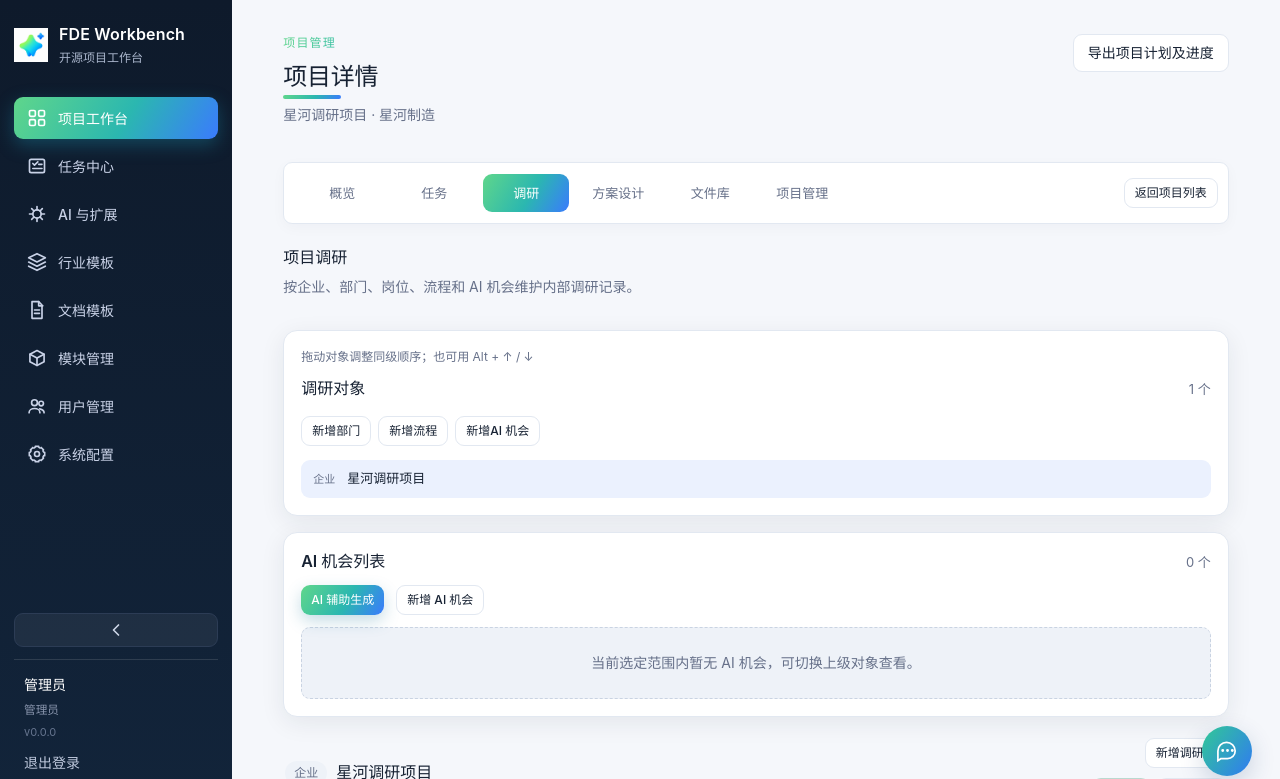
project research workspace › creates a department and opens its form card to save answers and return to the list
Click the button "新增部门": (336, 431) [301,416,371,446]
(page scrolled)
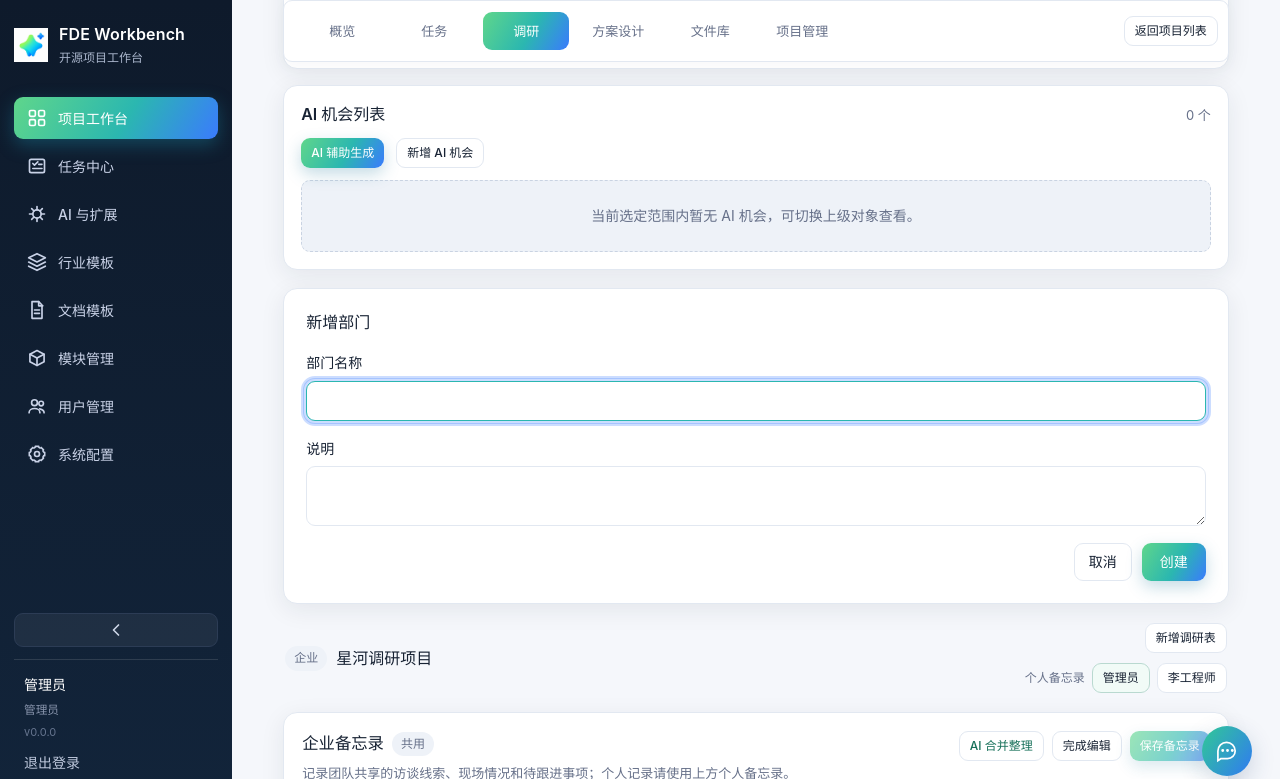
In the field labelled "部门名称": (756, 401) [306,381,1206,421], type "销售部"
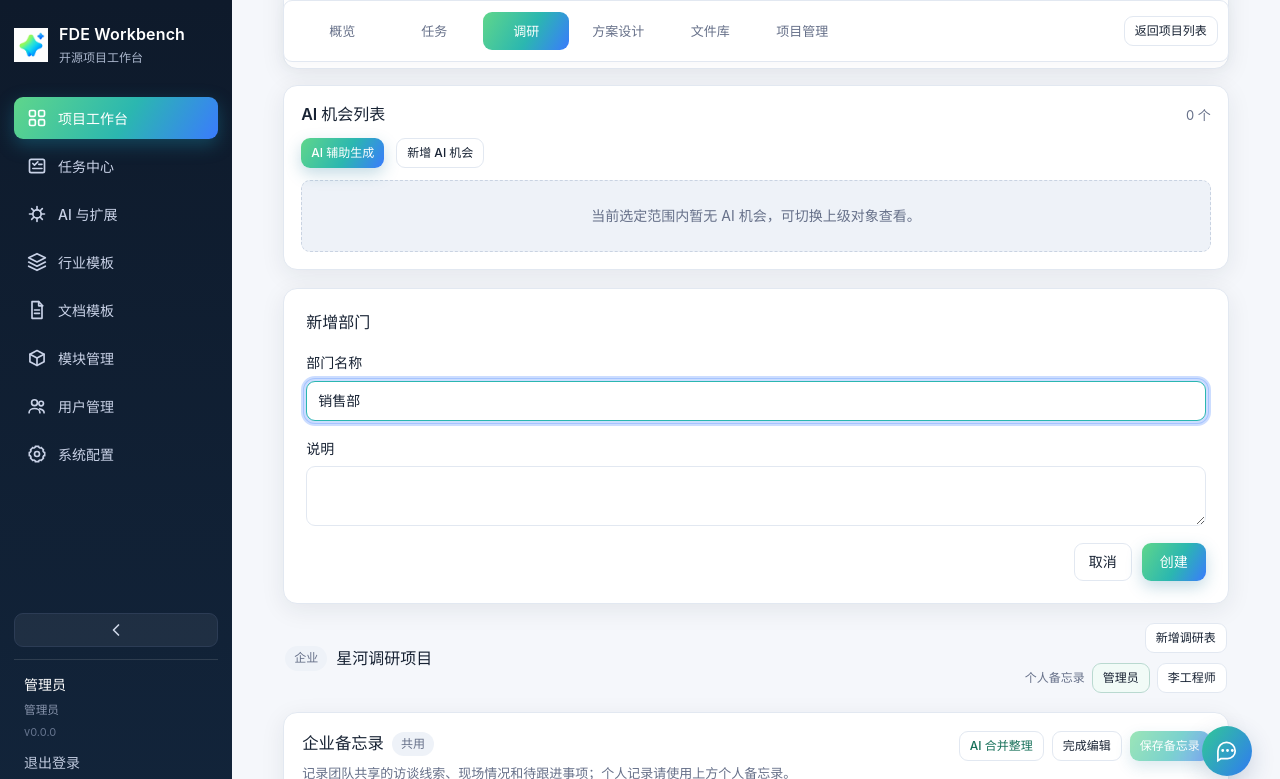
Click the button "创建": (1174, 562) [1142,543,1206,581]
(page scrolled)
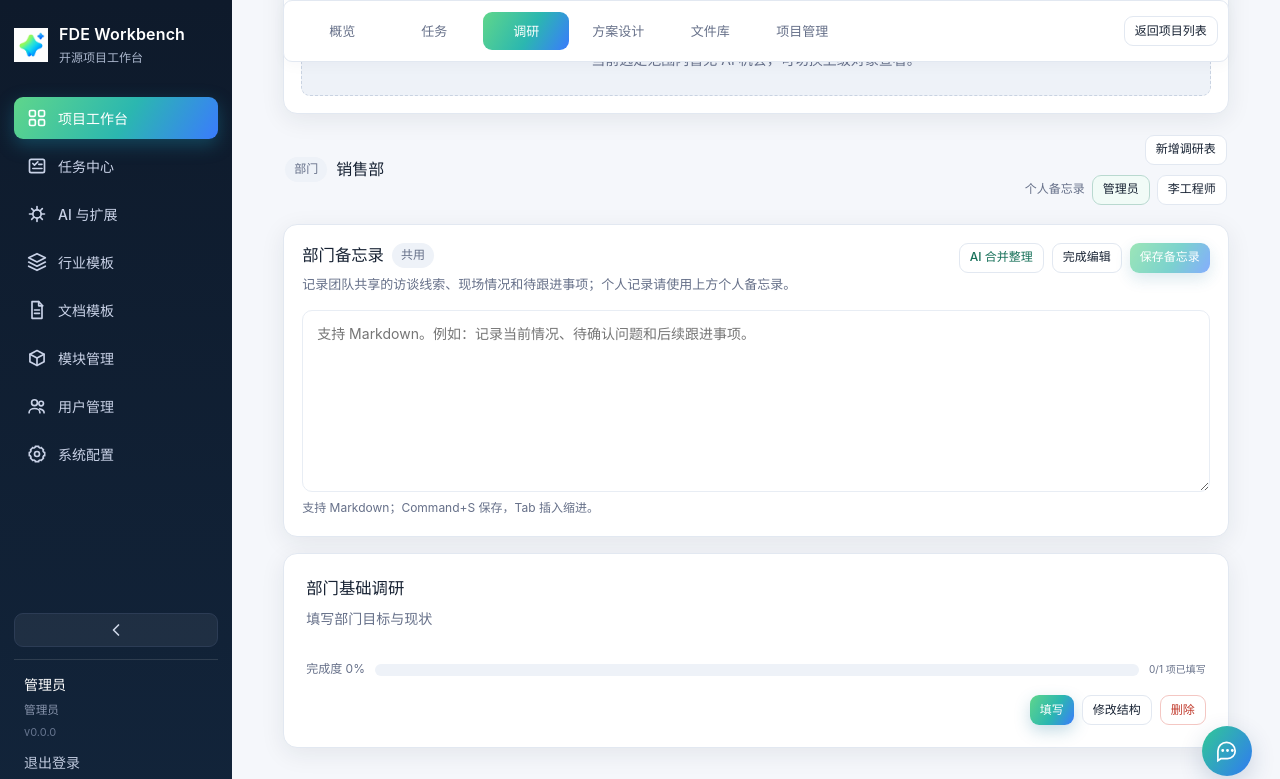
Expected: the field labelled "核心目标" is not shown
Click the button "填写": (1052, 710) [1030,695,1074,725]
(page scrolled)
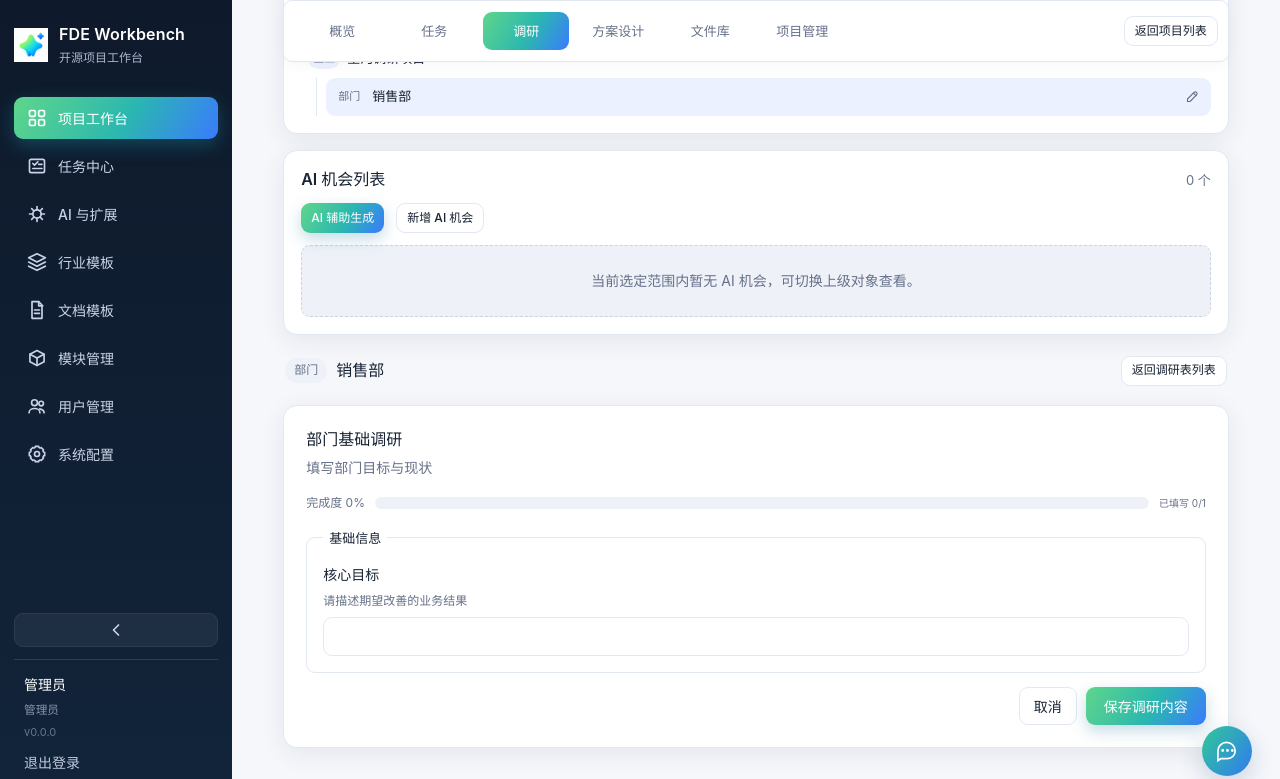
In the field labelled "核心目标": (756, 637) [323,617,1189,656], type "提高线索转化"
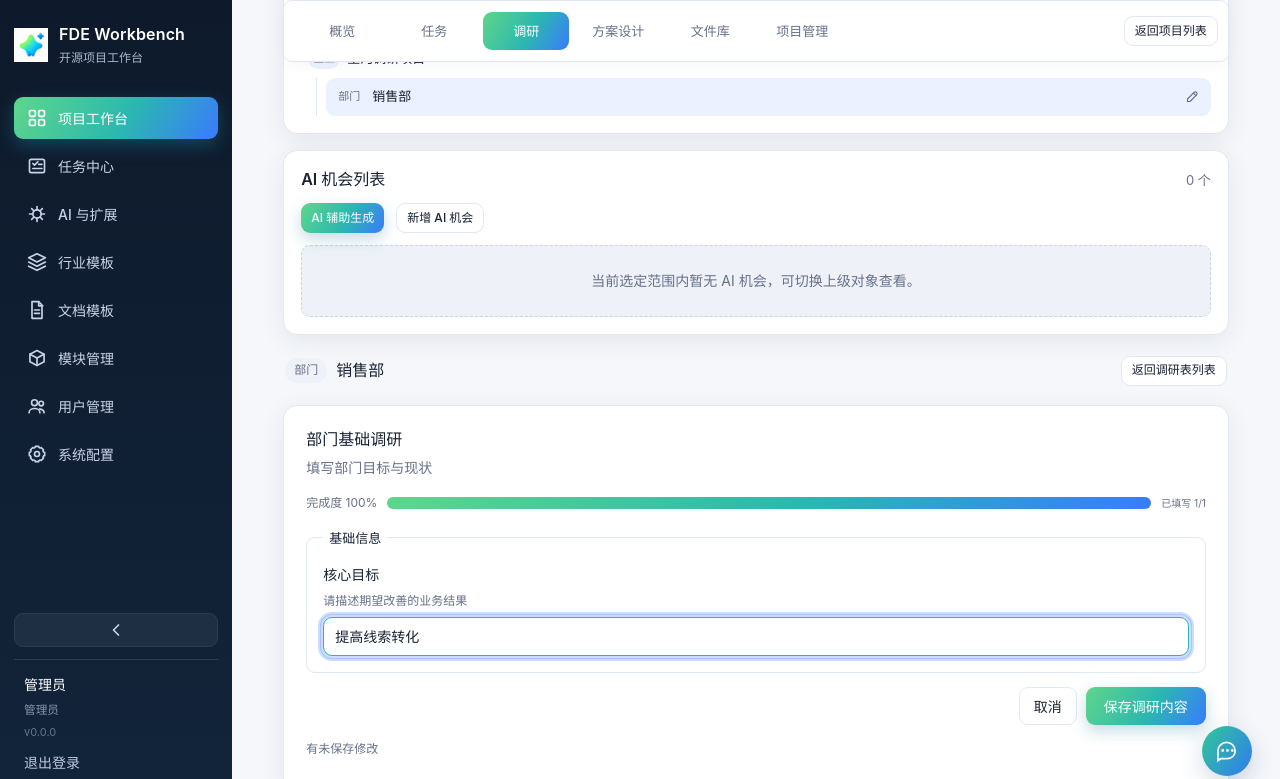
Click the button "保存调研内容": (1146, 706) [1086,688,1206,726]
(page scrolled)
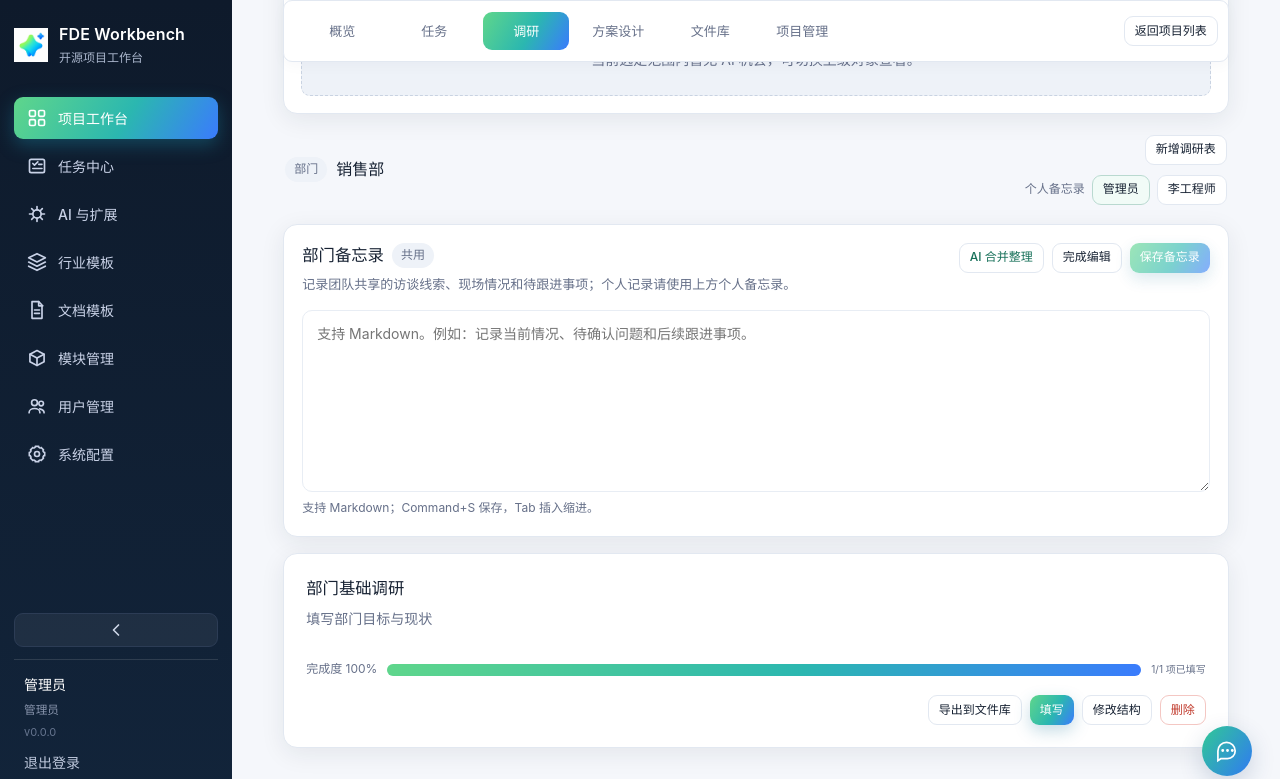
Result: the button "填写" is shown at [1030,695,1074,725]
Result: the text labelled "核心目标" is gone
